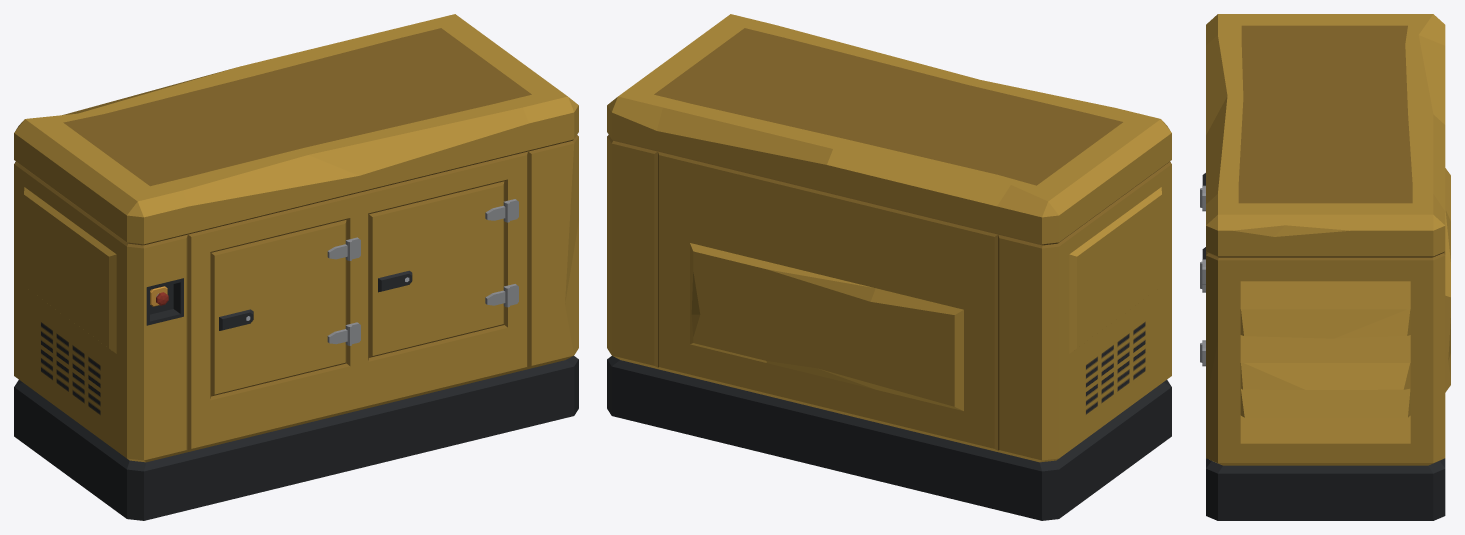
The model's file is SM_Prop_Generator_Large_01.fbx.
3 renders of one model, left to right at view 1: azimuth 30°, elevation 25°; view 2: azimuth 150°, elevation 25°; view 3: azimuth 270°, elevation 25°, orthographic. The views are drawn at different scales.
Parts seen in each view (by area): view 1: SM_Prop_Generator_Large_01; view 2: SM_Prop_Generator_Large_01; view 3: SM_Prop_Generator_Large_01.
Boxes of the visible parts, x1,y1,x2,y2 form: SM_Prop_Generator_Large_01: (14,14,578,520); SM_Prop_Generator_Large_01: (607,14,1171,520); SM_Prop_Generator_Large_01: (1200,14,1450,520).
Size of the model in its own units: 260 by 166 by 126.
